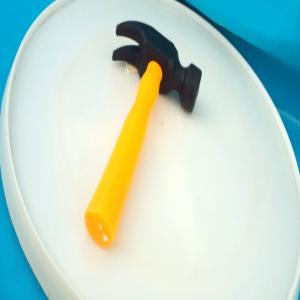martelo: (84, 20, 203, 248)
